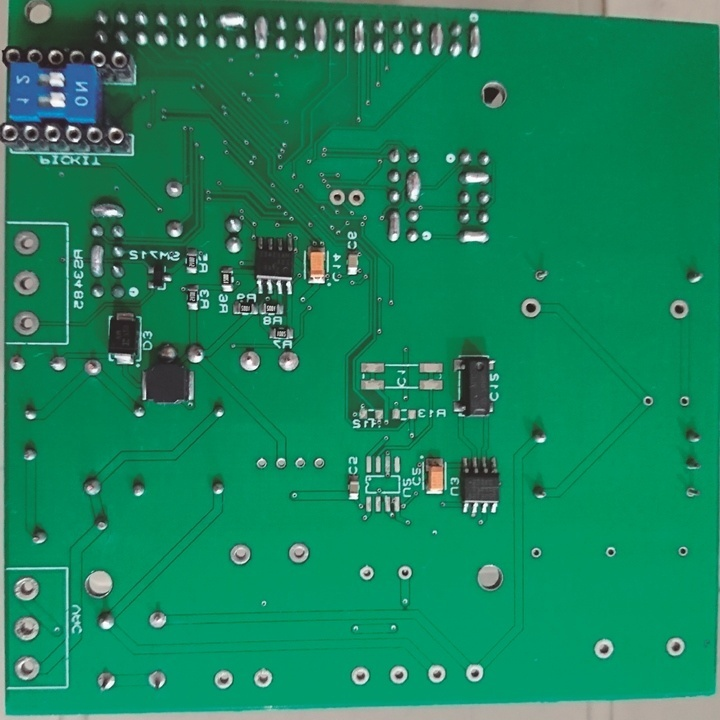F: (10, 612, 42, 646), (11, 575, 43, 608), (12, 309, 42, 340), (13, 268, 42, 300), (12, 227, 42, 257), (12, 654, 42, 681), (251, 664, 276, 693), (229, 539, 252, 570), (276, 349, 301, 377), (144, 668, 169, 695), (213, 668, 236, 695), (238, 349, 263, 373), (594, 637, 616, 664), (145, 608, 169, 632), (81, 353, 104, 378), (519, 297, 543, 320), (667, 298, 690, 322), (288, 540, 310, 565), (94, 669, 115, 695), (665, 635, 685, 662), (164, 178, 187, 201), (7, 351, 28, 375), (47, 352, 68, 375), (464, 662, 486, 683), (532, 264, 552, 287), (350, 666, 373, 686), (426, 663, 447, 684), (393, 563, 414, 582), (347, 186, 364, 209), (390, 665, 408, 686), (358, 563, 375, 585), (683, 484, 700, 503), (330, 186, 345, 206), (253, 456, 269, 472), (676, 544, 690, 562), (641, 393, 654, 409), (528, 545, 541, 560), (314, 455, 325, 472), (604, 545, 617, 559), (293, 456, 304, 472), (679, 394, 691, 408), (276, 457, 288, 471)
P: (88, 198, 127, 220), (404, 168, 423, 206), (251, 13, 270, 51), (87, 241, 106, 279), (457, 168, 493, 188), (454, 228, 492, 246), (311, 15, 329, 53), (216, 10, 248, 31), (386, 208, 403, 246), (427, 19, 443, 59), (352, 15, 367, 57), (466, 22, 482, 60)
